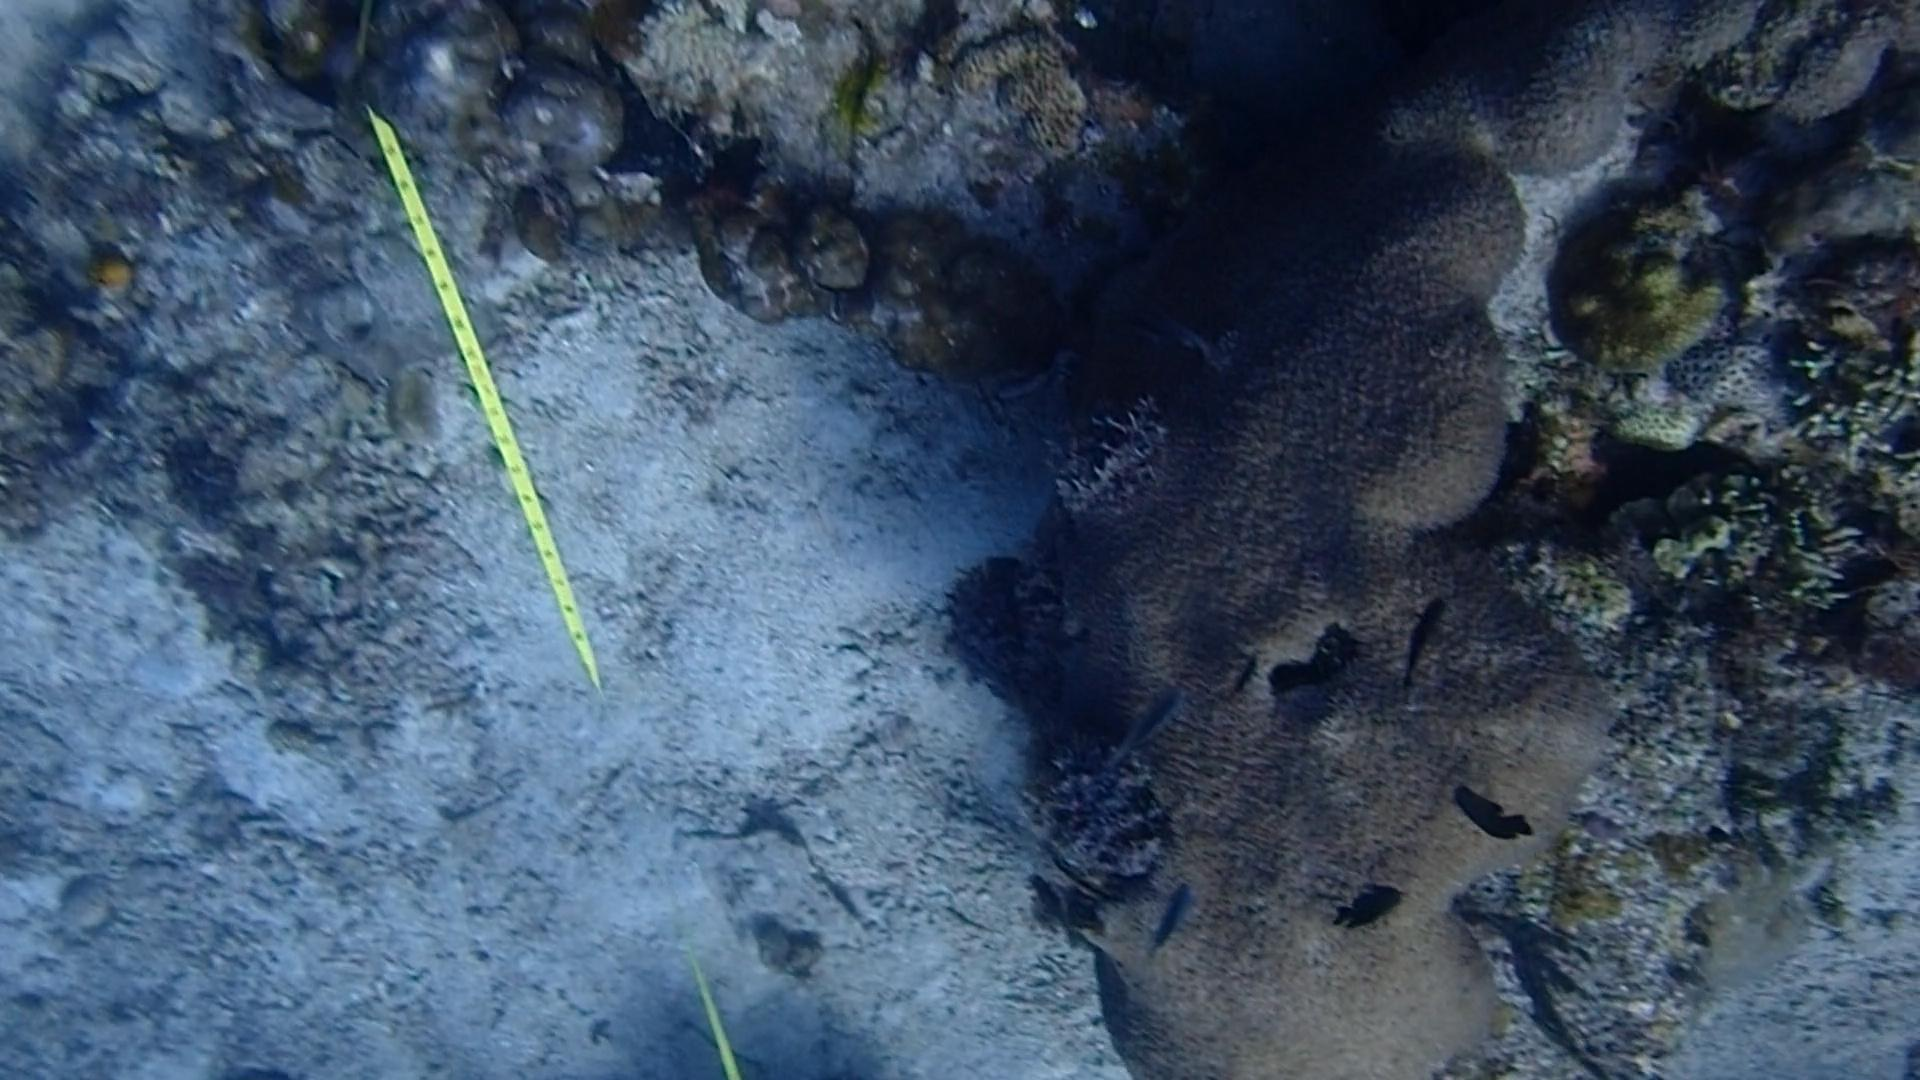Dark Fish: (1441, 769, 1548, 851), (1317, 874, 1408, 939), (83, 71, 181, 129), (1399, 604, 1457, 699), (1225, 650, 1262, 712)
Light Fish: (1097, 678, 1196, 781), (1151, 311, 1242, 386), (1138, 877, 1211, 969)
